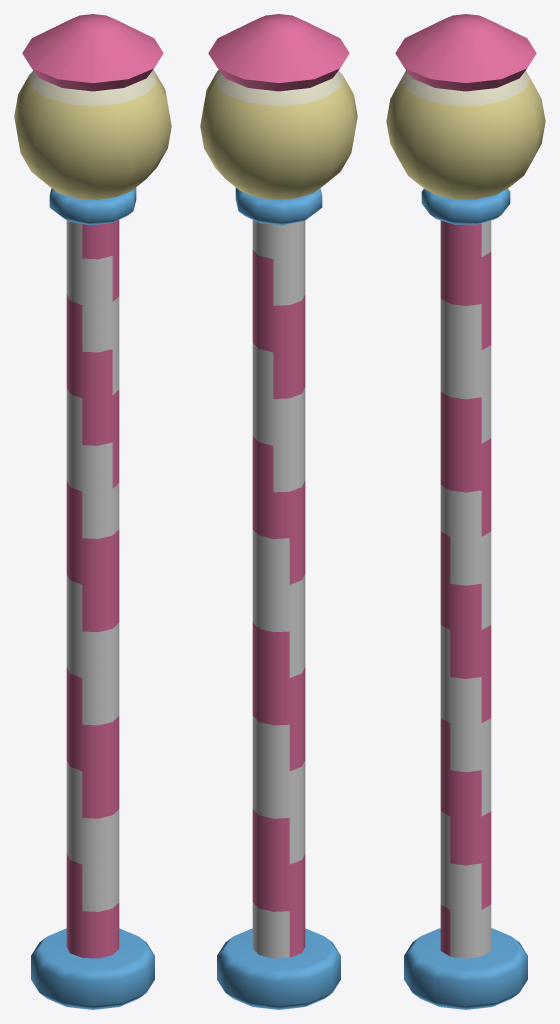
File: block-lamp.glb
The picture shows the model from 3 angles, left to right: view 1: azimuth 30°, elevation 25°; view 2: azimuth 150°, elevation 25°; view 3: azimuth 270°, elevation 25°; orthographic projection.
Parts seen in each view (by area): view 1: block-lamp; view 2: block-lamp; view 3: block-lamp.
Boxes of the visible parts, x1,y1,x2,y2 form: block-lamp: (14, 14, 171, 1009); block-lamp: (200, 14, 357, 1009); block-lamp: (386, 14, 545, 1009).
Size of the model in its own units: 0.351 by 2.41 by 0.36.
